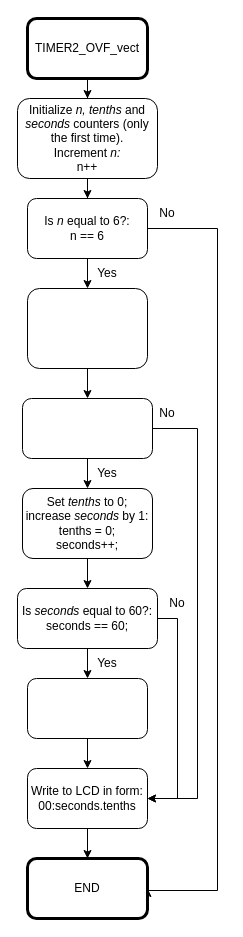
Image size: 243x937. Some labels were removed from this diagram. Each missing label, with the box of its shape:
Is tenths equal to 10?: tenths==10: (22, 398, 152, 458)
Set n to 0, increase tenths by 1: n = 0; tenths++;: (26, 288, 148, 368)
Set seconds to 0: seconds = 0;: (26, 678, 148, 738)
